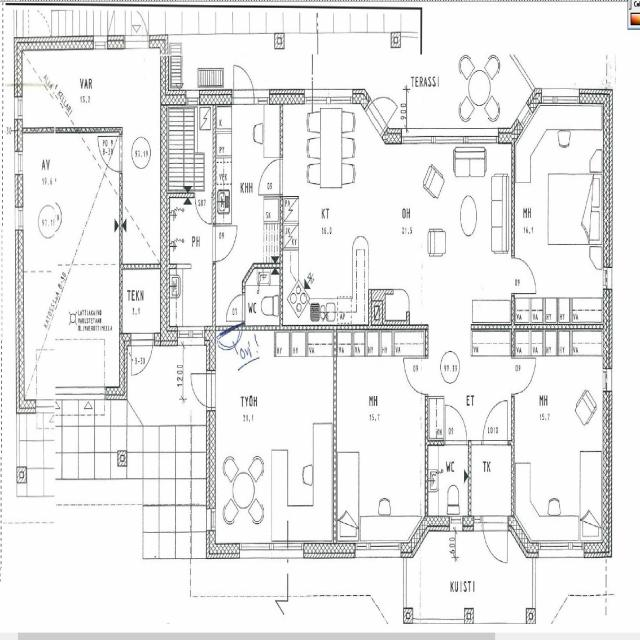door: (366, 76, 402, 136), (482, 517, 507, 572), (125, 0, 148, 50), (131, 332, 153, 382), (483, 401, 507, 445), (234, 56, 254, 104), (186, 374, 215, 406), (403, 357, 428, 394), (445, 404, 467, 445), (511, 358, 536, 394), (213, 226, 237, 262), (98, 136, 122, 171), (512, 258, 535, 294), (259, 159, 282, 194), (195, 192, 211, 225), (222, 326, 238, 357), (227, 296, 245, 320)
